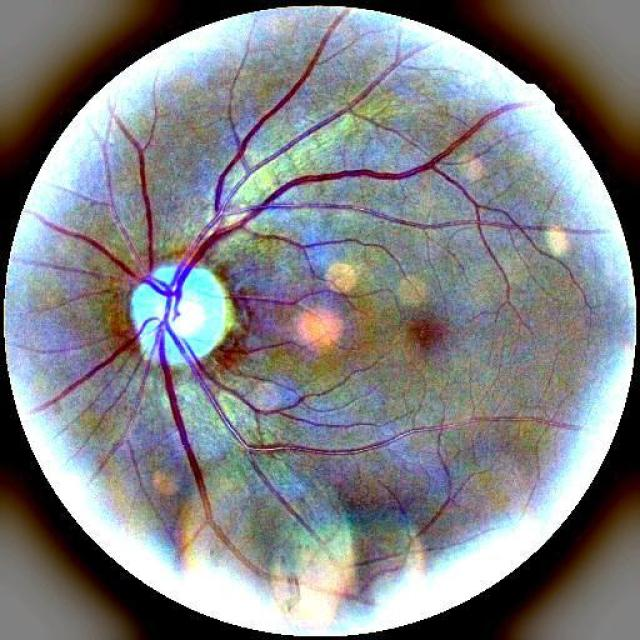Macula: (391, 308, 466, 365)
Nerves: (143, 37, 482, 312), (38, 317, 373, 585)
Optic Disk: (103, 240, 260, 391)
